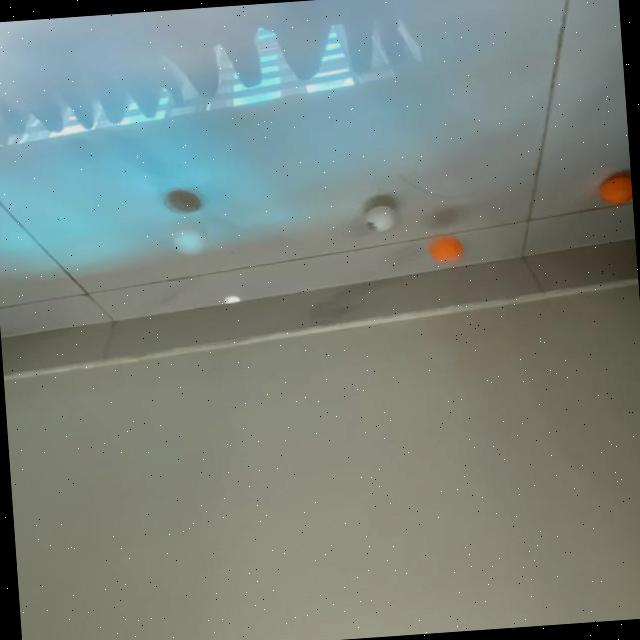ping-pong-ball: (172, 221, 208, 253), (428, 236, 464, 266), (600, 176, 633, 207), (364, 203, 398, 231)
